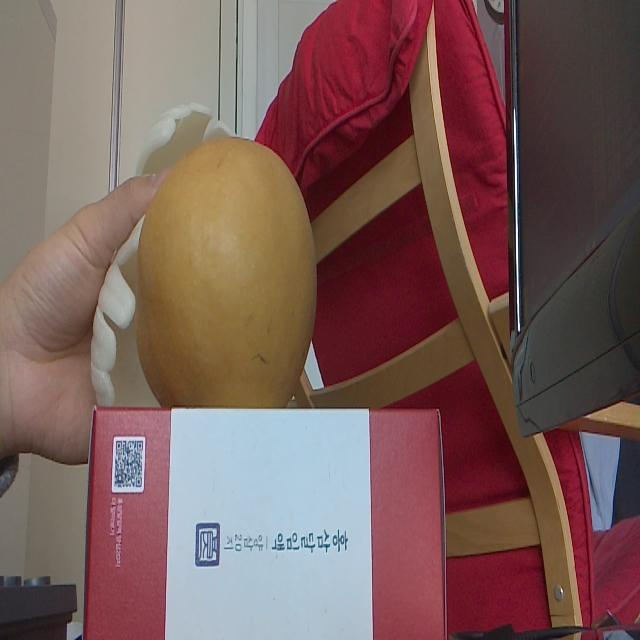pear: (136, 136, 316, 408)
